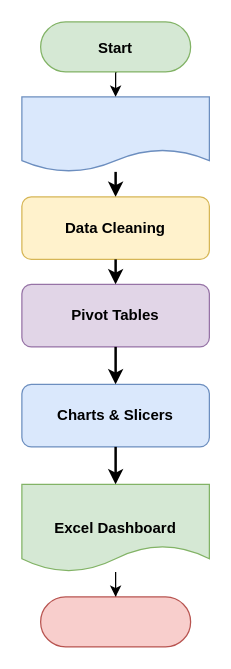
Some shapes in this 231 by 669 pixel diagram are drawn without their labels. The shapes that lost their labels are listed below. From the top down, each one's box as (x1, y1, x2, y2) in pixels, then its label:
(21, 96, 209, 172): Raw Excel Data
(39, 596, 191, 647): End
